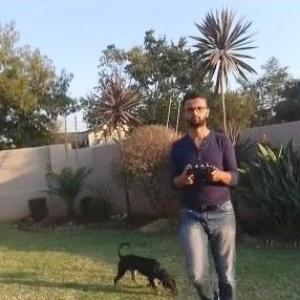follow: (168, 89, 242, 299)
null: (111, 237, 183, 297)
